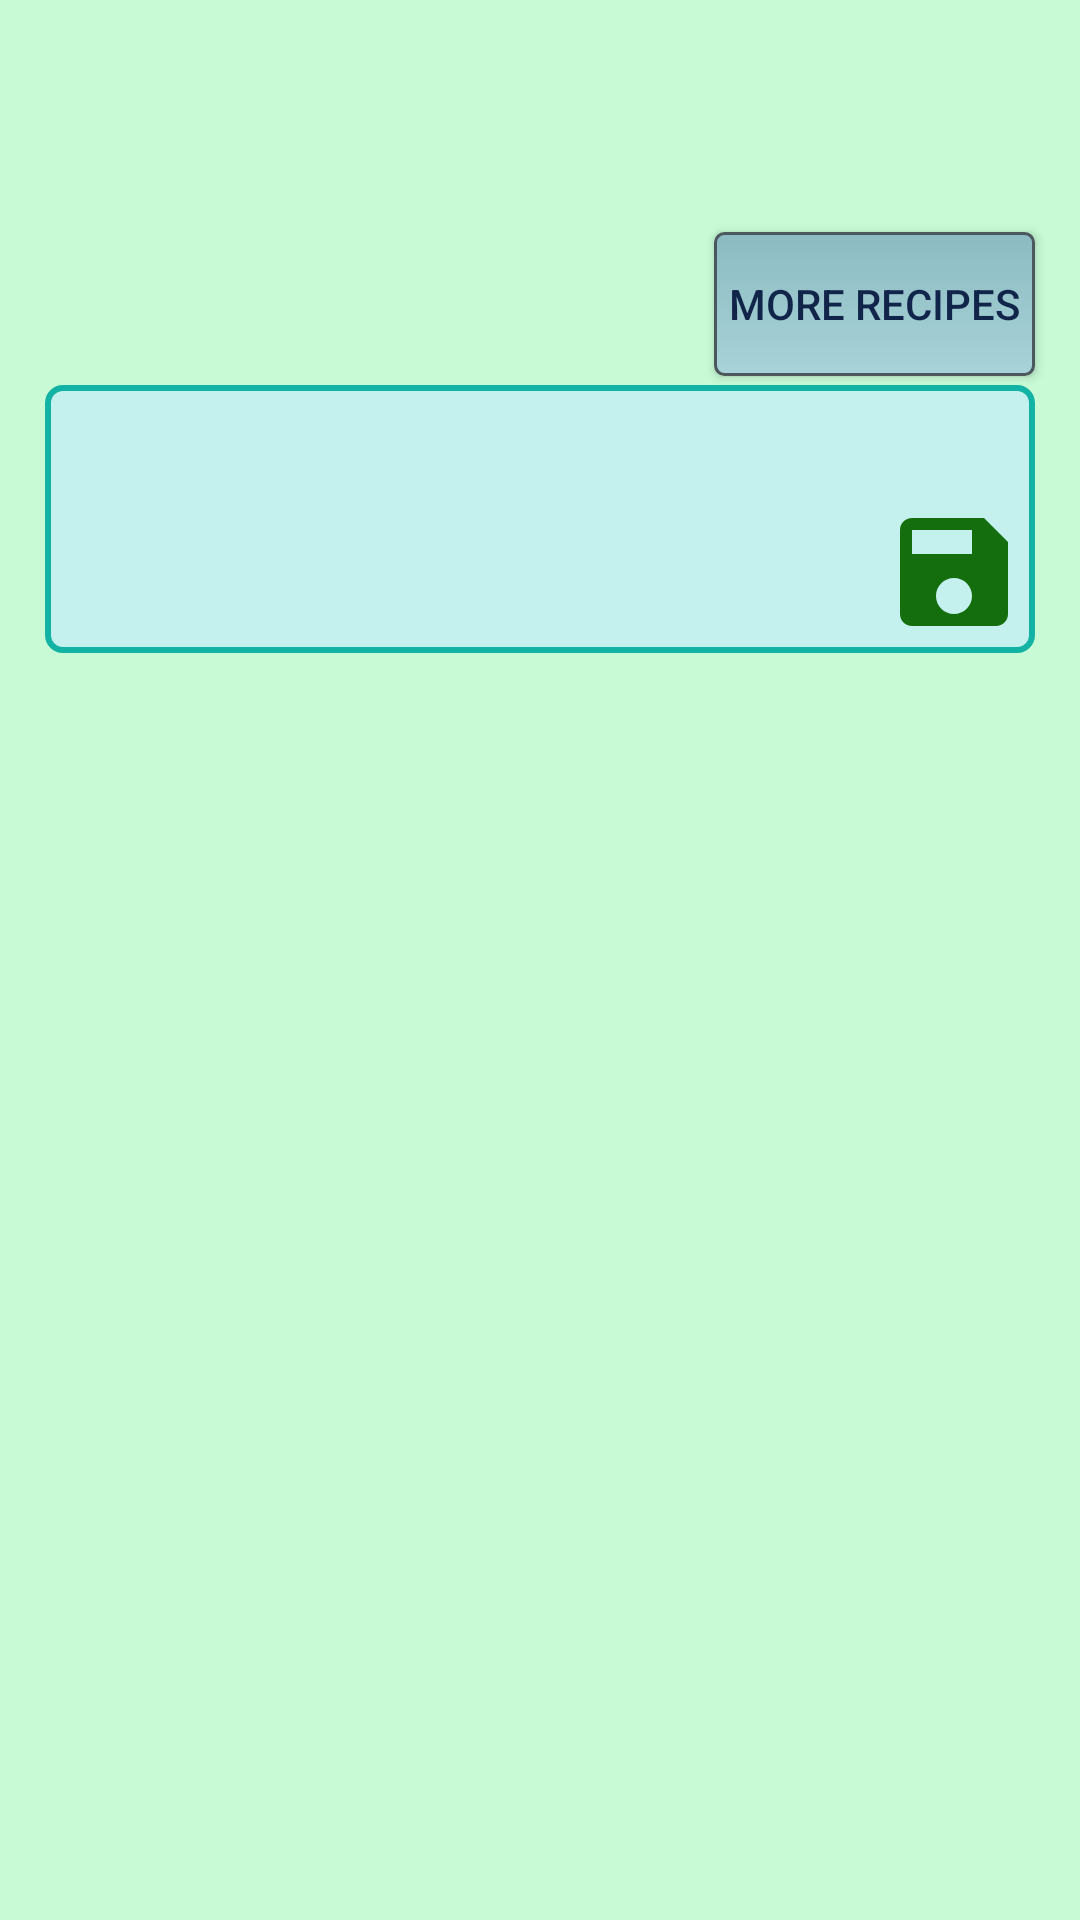

Named icons in this screenshot (1080px×1920px) and their centers, (x,y):
save: (954,572)
